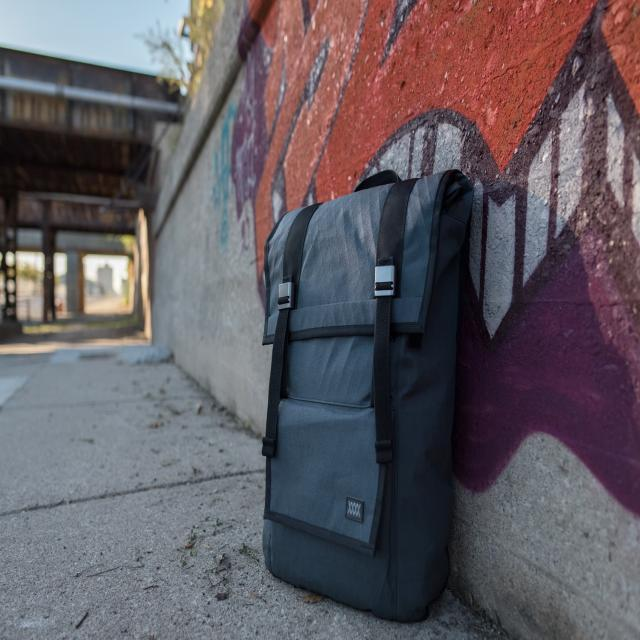Backpacks: (257, 168, 474, 626)
